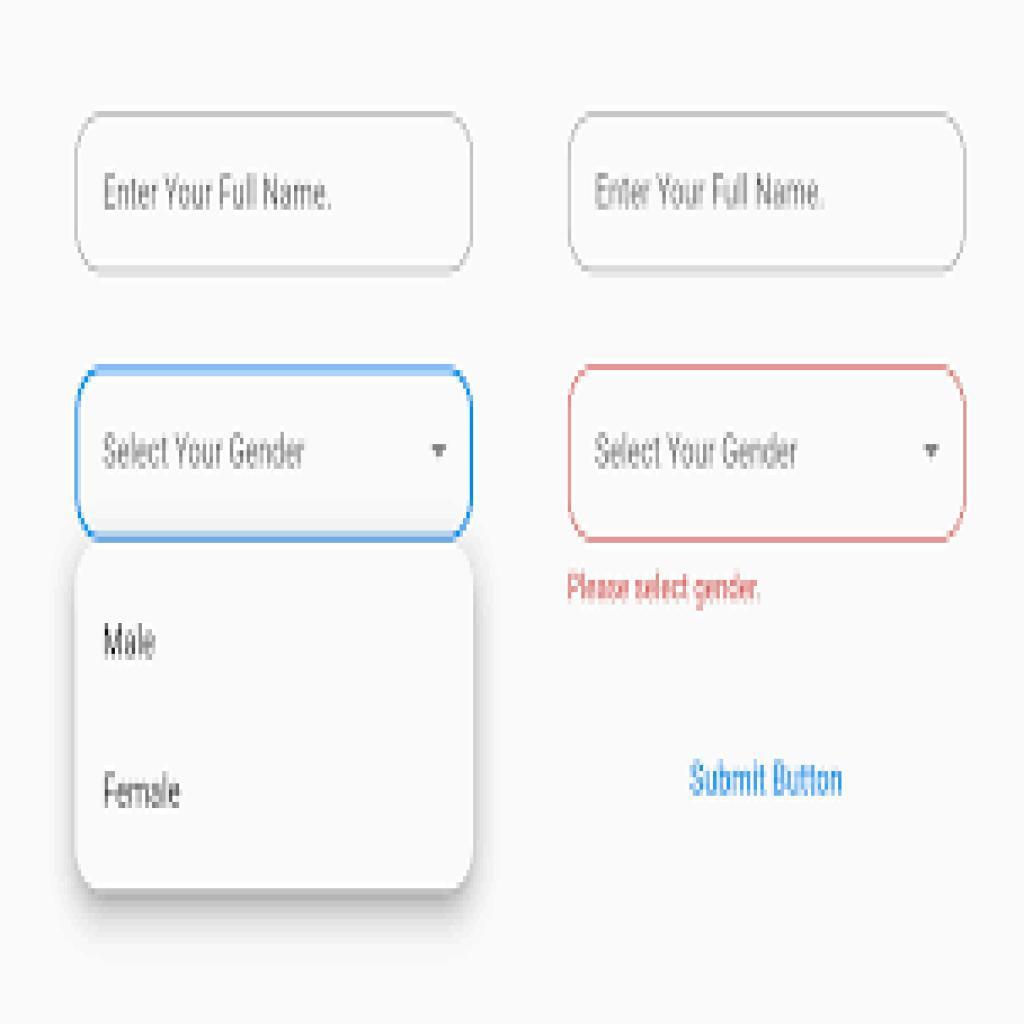dropdown: (75, 363, 476, 544), (566, 365, 968, 543)
input: (75, 112, 473, 275), (570, 114, 966, 271)
label: (682, 752, 852, 810)
